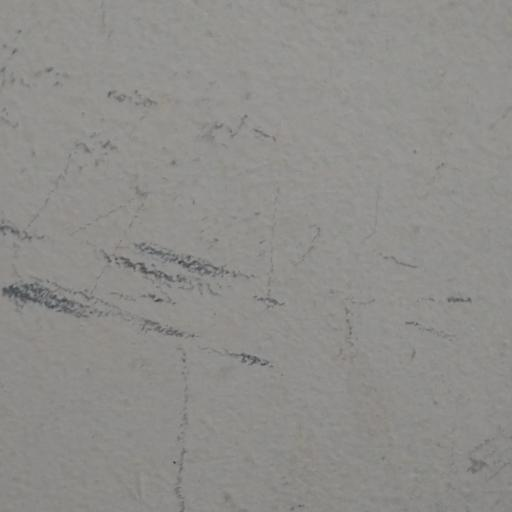stain: (6, 72, 421, 391)
